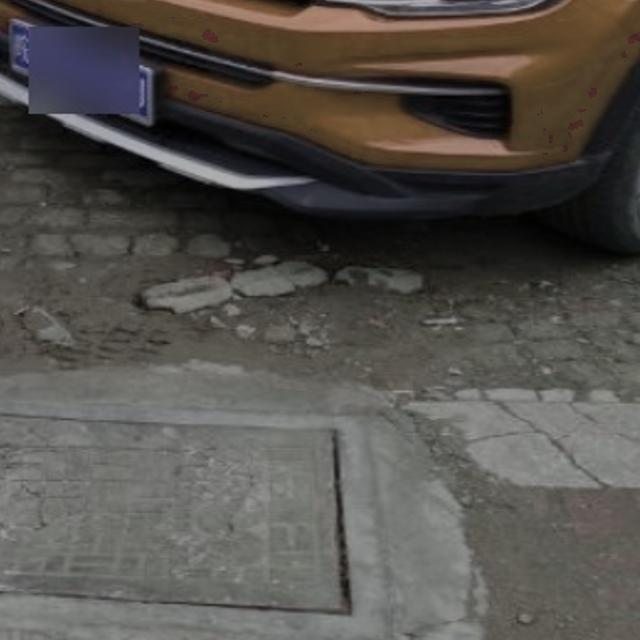broke: (0, 386, 385, 640)
